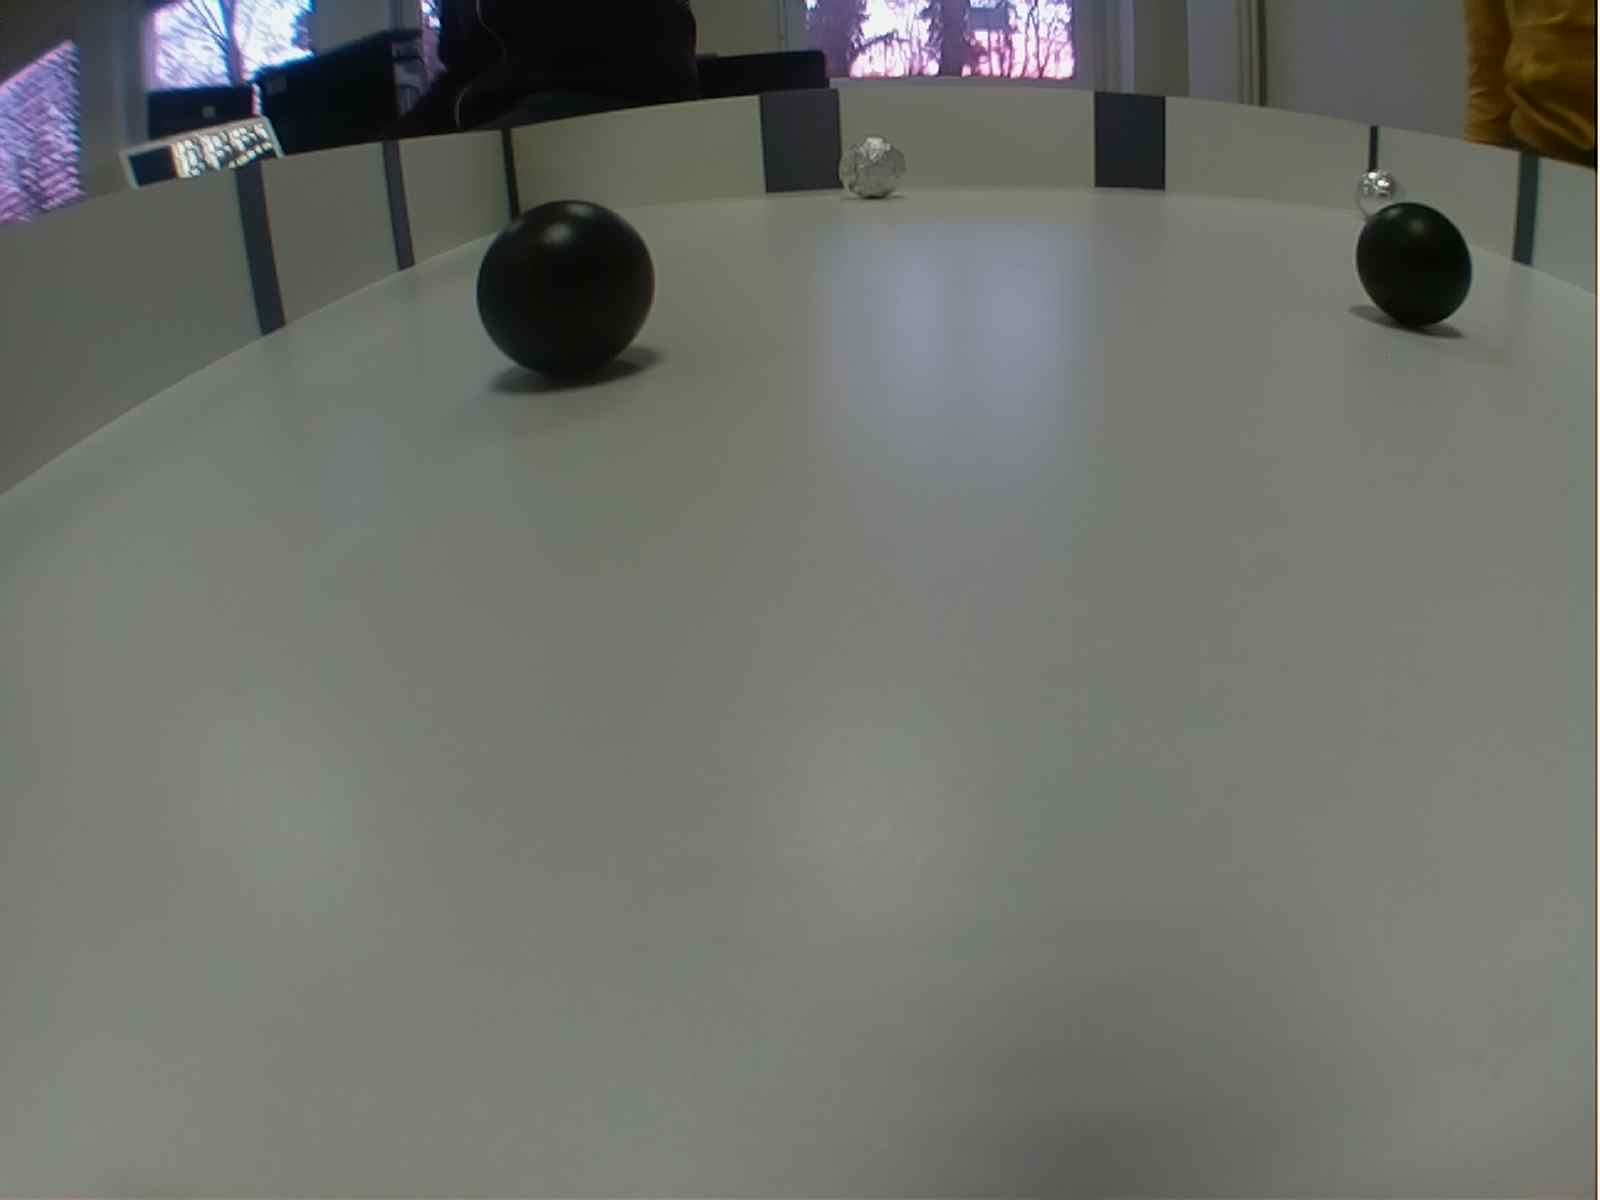bianca: (837, 134, 908, 200), (1354, 168, 1409, 224)
nera: (479, 194, 661, 383), (1354, 199, 1474, 332)
